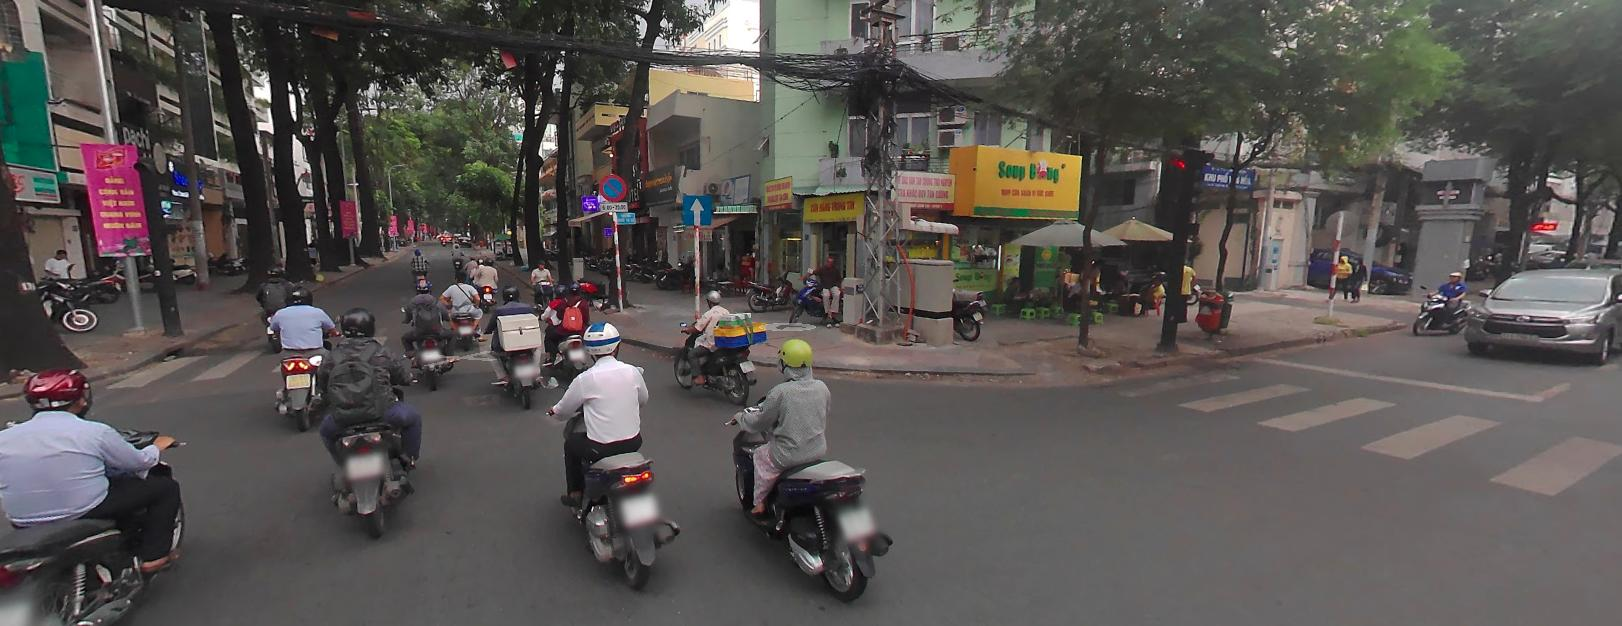Cam dung va do: (598, 172, 626, 201)
